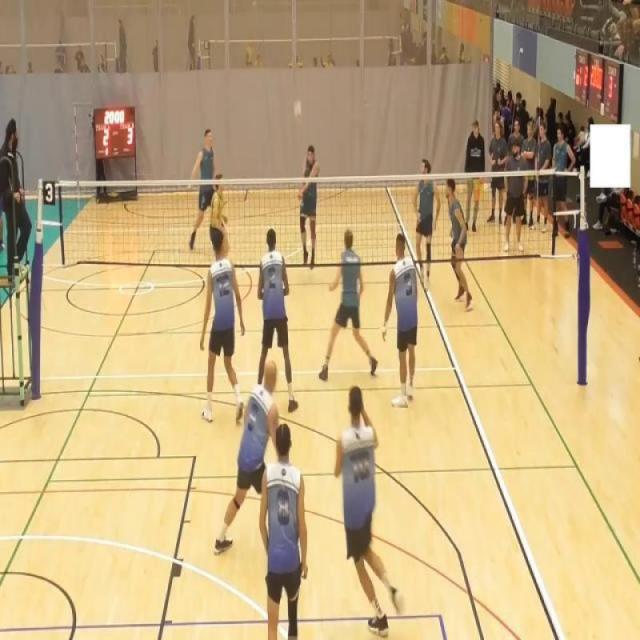volleyball: (292, 99, 303, 119), (252, 0, 257, 8)
